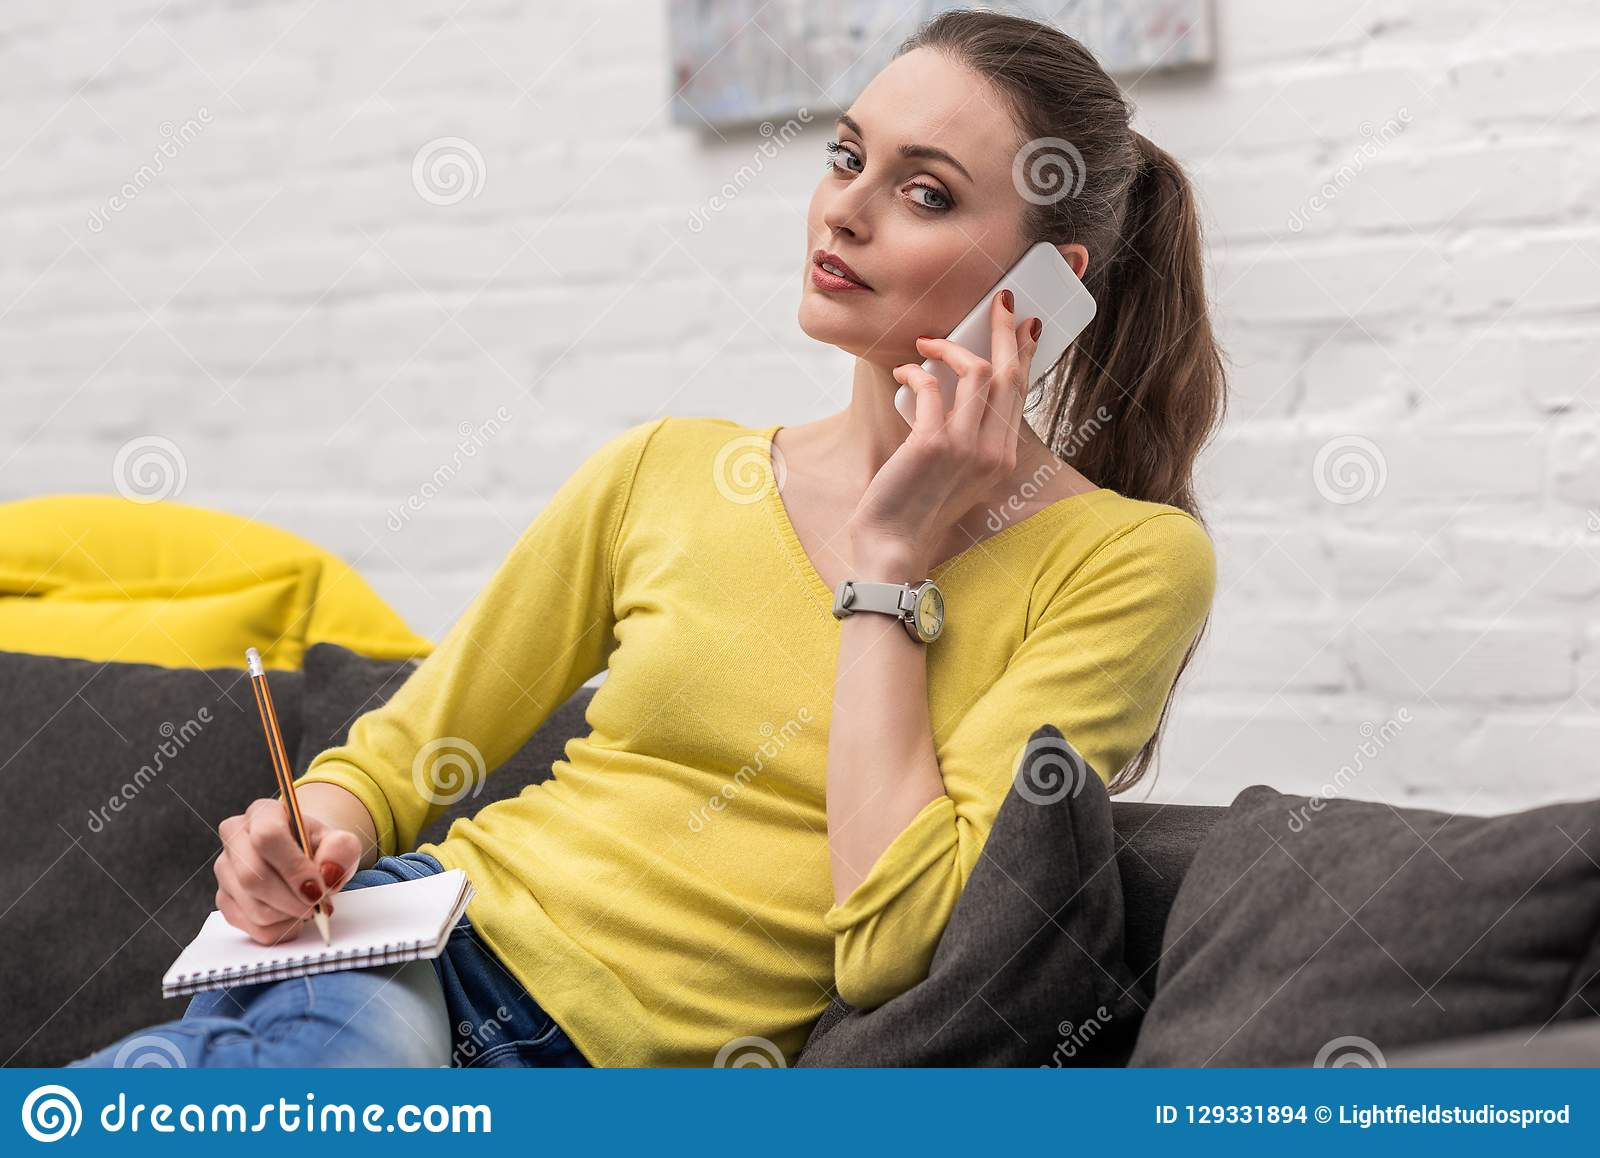phone: (896, 236, 1099, 450)
talk: (793, 106, 1099, 578)
